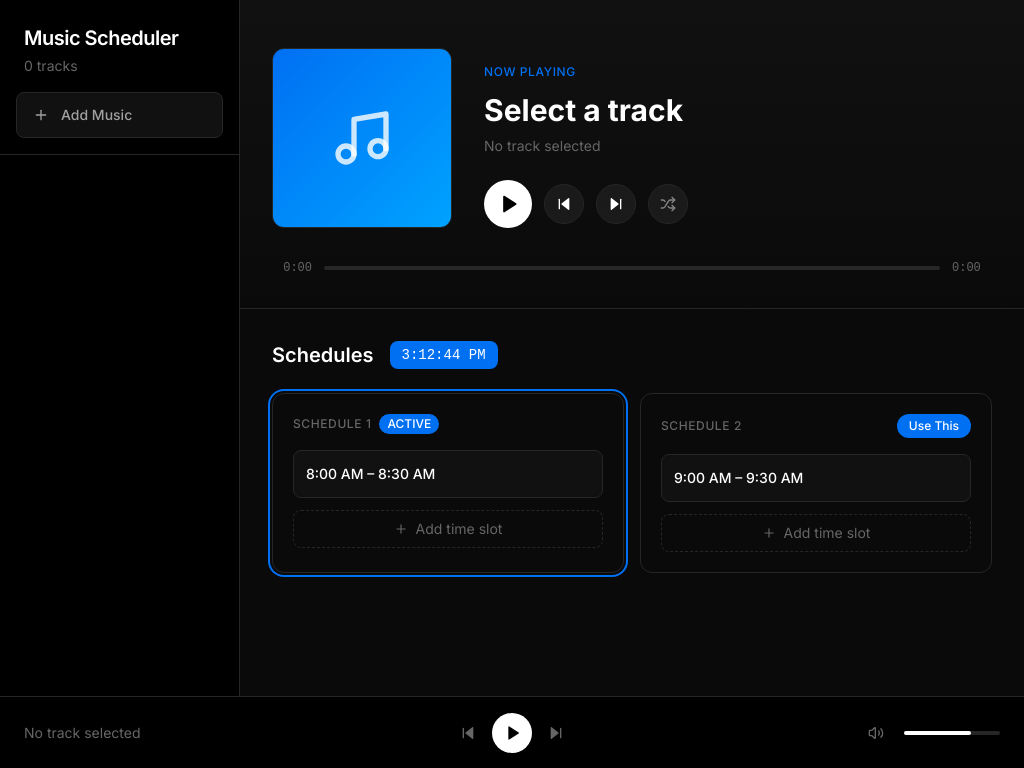
MusicScheduler Component › Time Slot Management › clicking Cancel hides the add form
Click the button "Add time slot" below "8:00 AM": [448, 529] box [293,510,603,548]
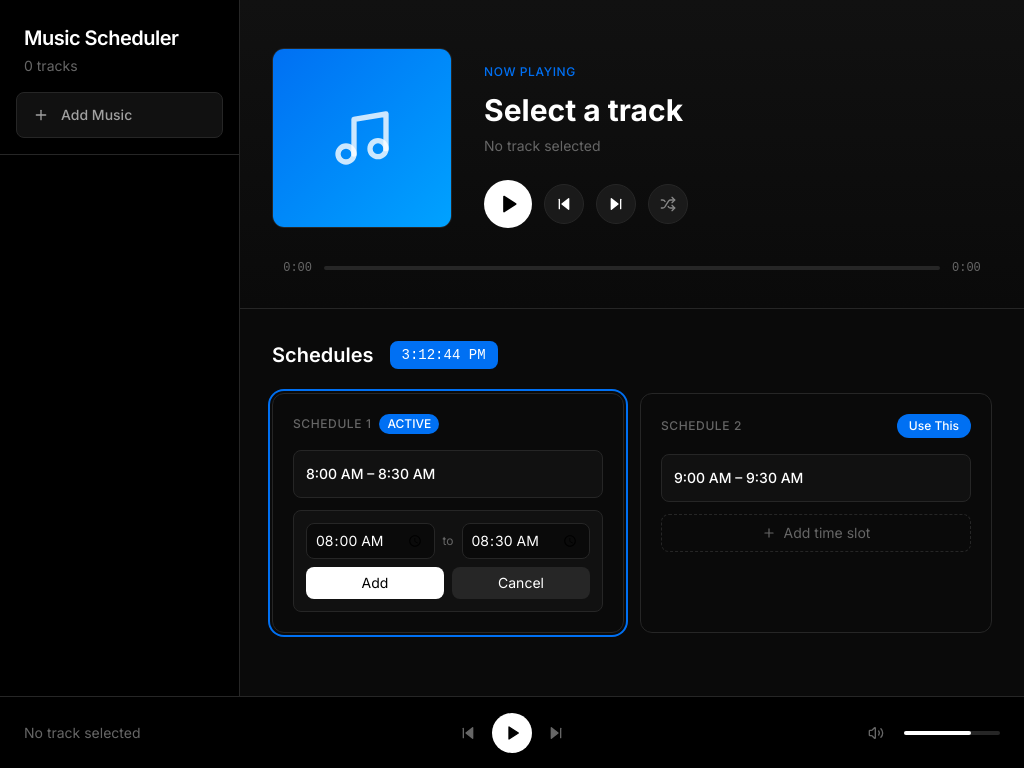
Click the button "Cancel": [521, 583] box [452,567,590,599]
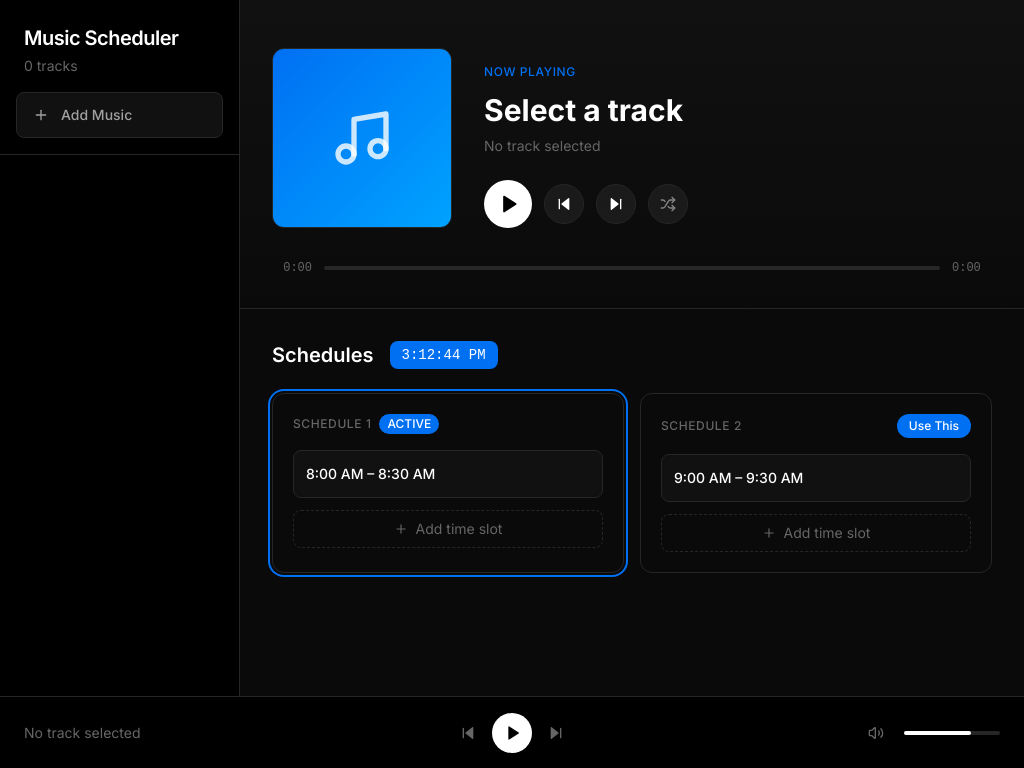
Check: the number of buttons "Add time slot" is 2, box [293,510,603,548]; [661,514,971,552]
